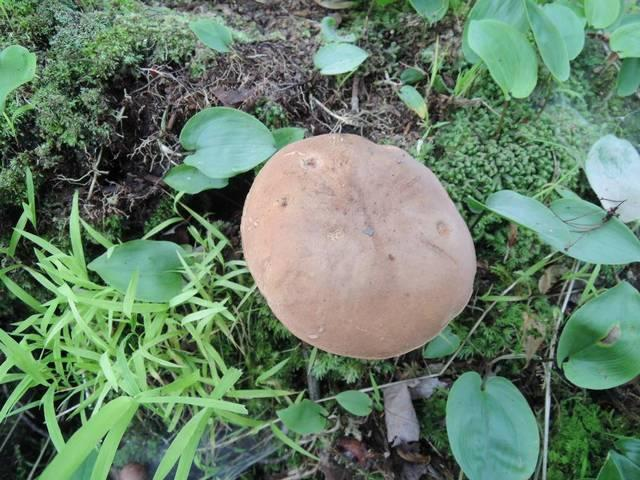Non-edible Mushroom: (238, 131, 478, 361)
